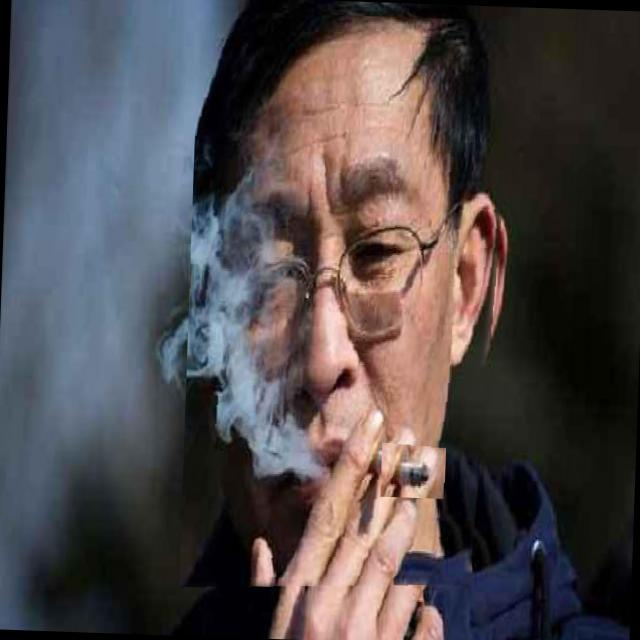cigarette: (381, 442, 446, 498)
